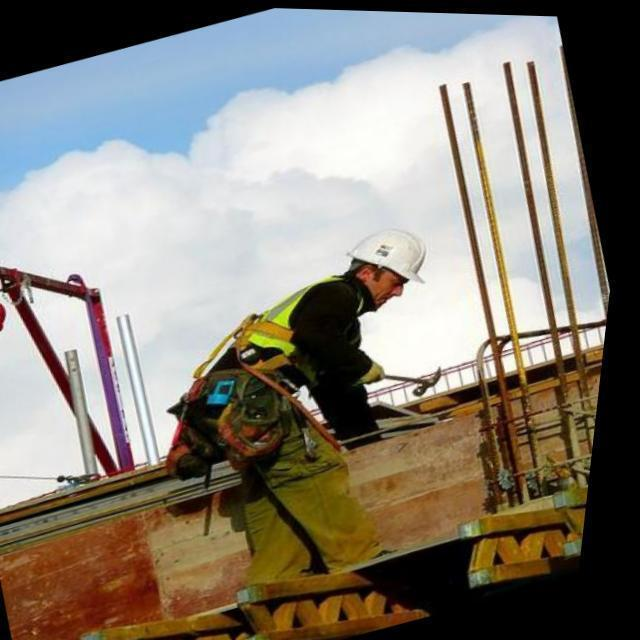safety belt: (179, 273, 378, 435)
